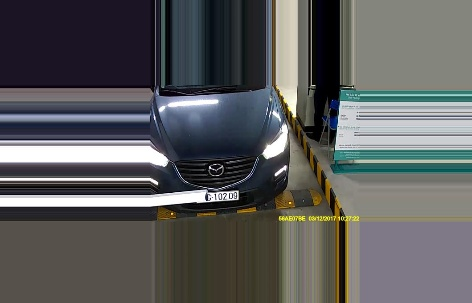plate: (196, 189, 241, 204)
